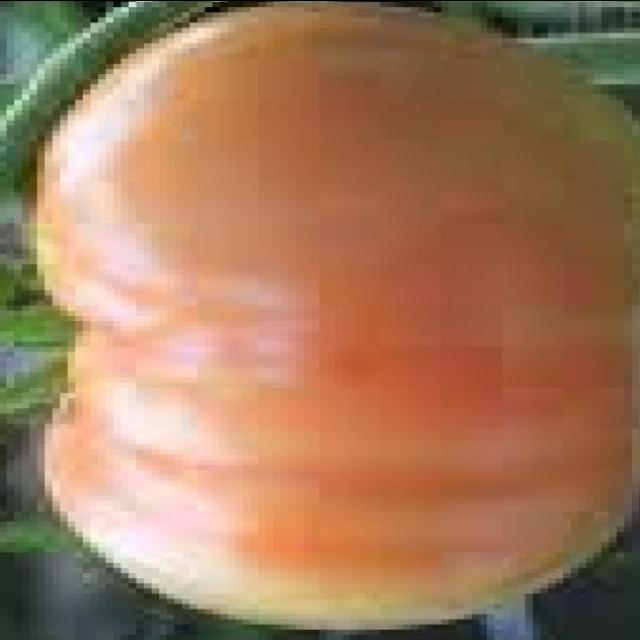Healthy: (10, 34, 640, 602)
